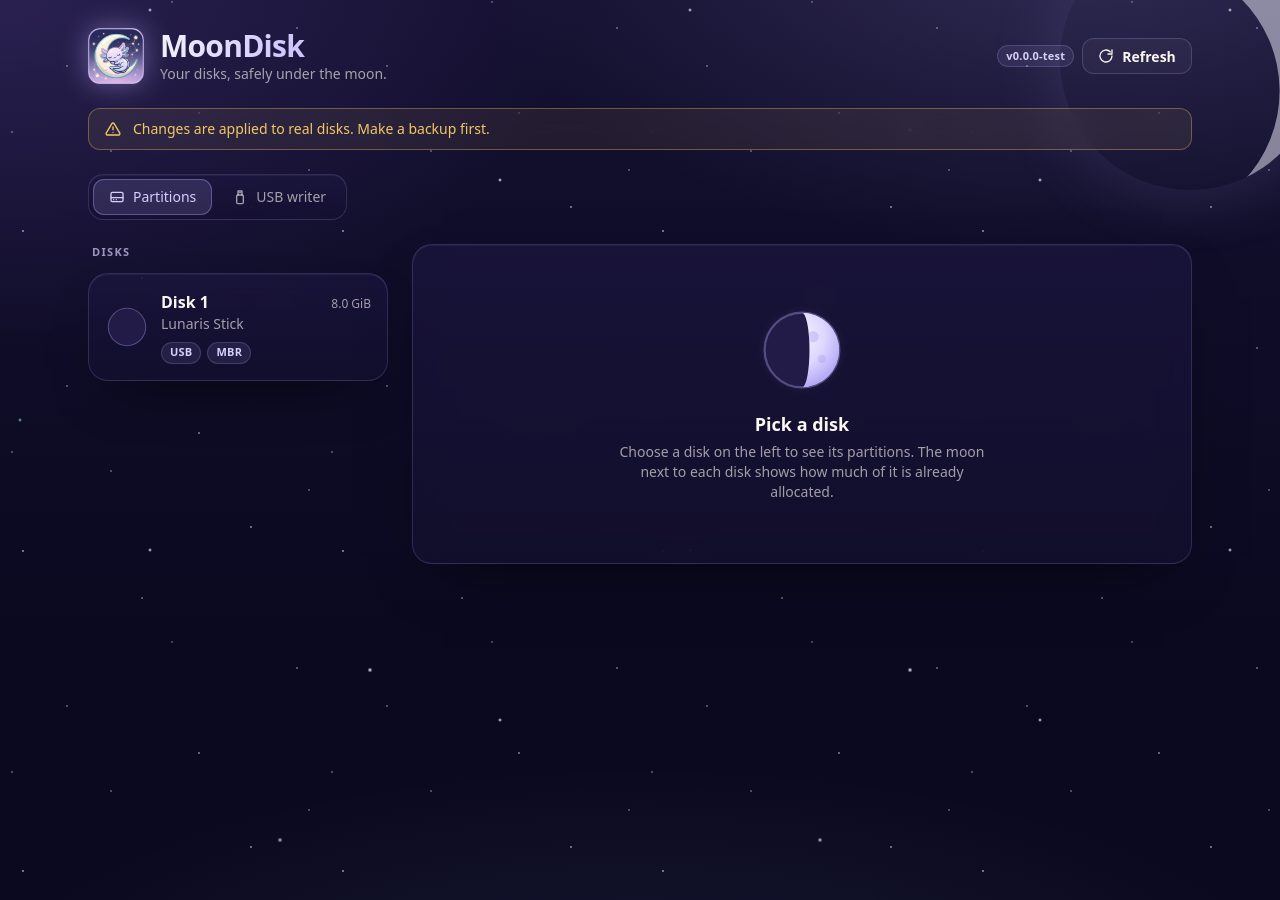
Test case: App › writes an image to the chosen drive after confirmation
This screenshot has width=1280, height=900.
Check: the text "Changes are applied to real disks. Make a backup first." is shown, box [133,119,490,138]
Click the tab "USB writer": (279, 197) [216,179,342,215]
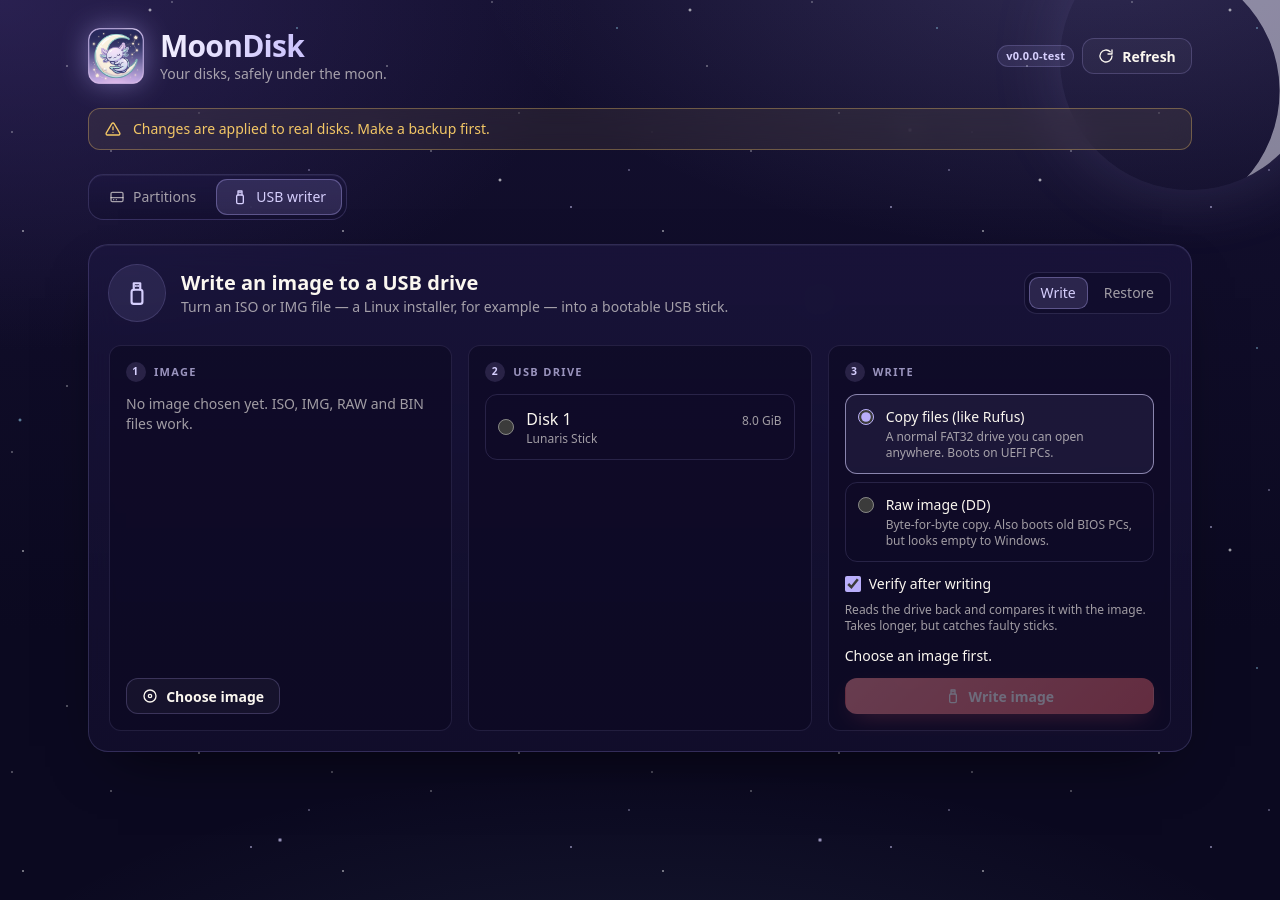
Click the button "Choose image": (203, 696) [126,678,280,714]
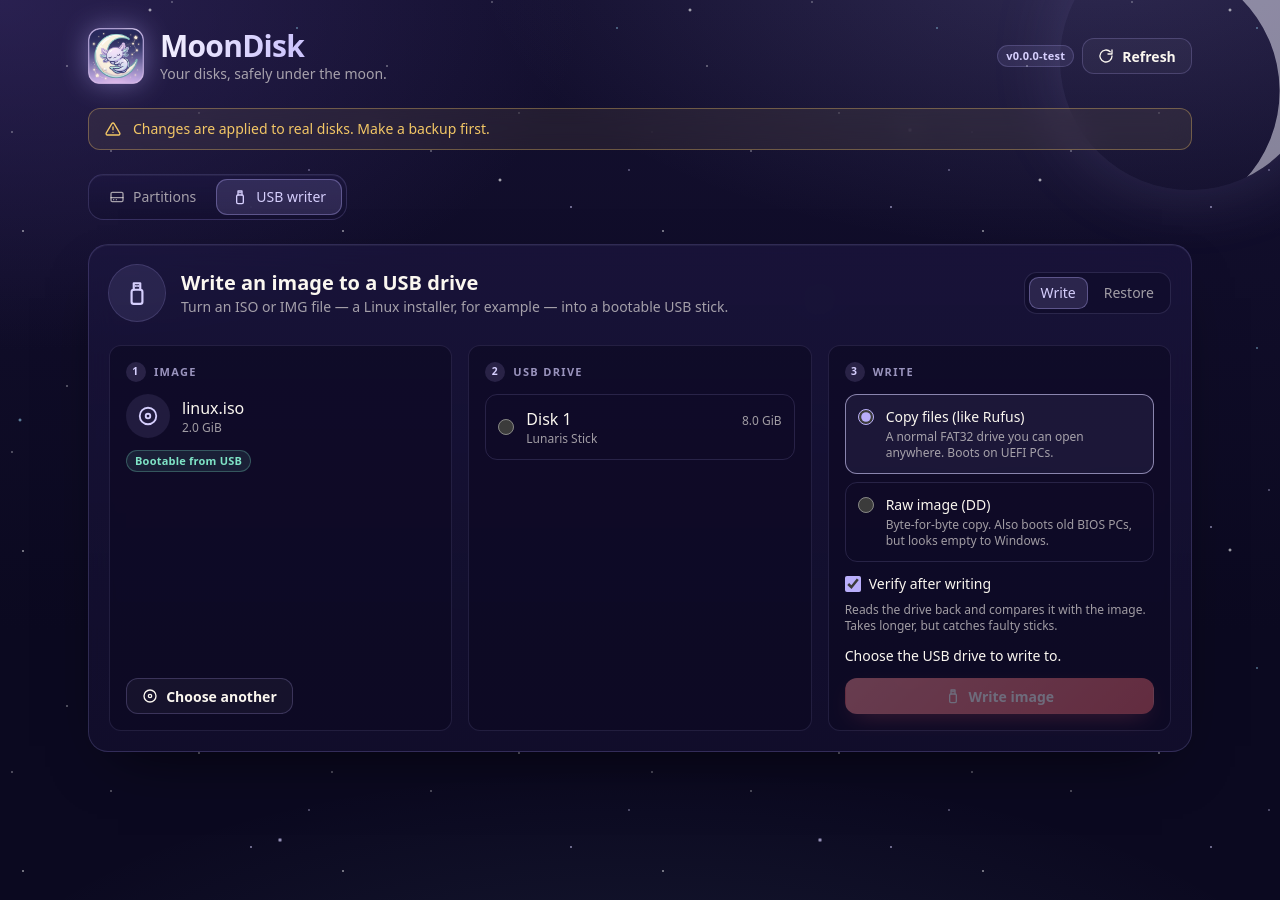
Click the radio button labelled "Disk 1 8.0 GiB Lunaris Stick": (506, 427) [498,419,514,435]
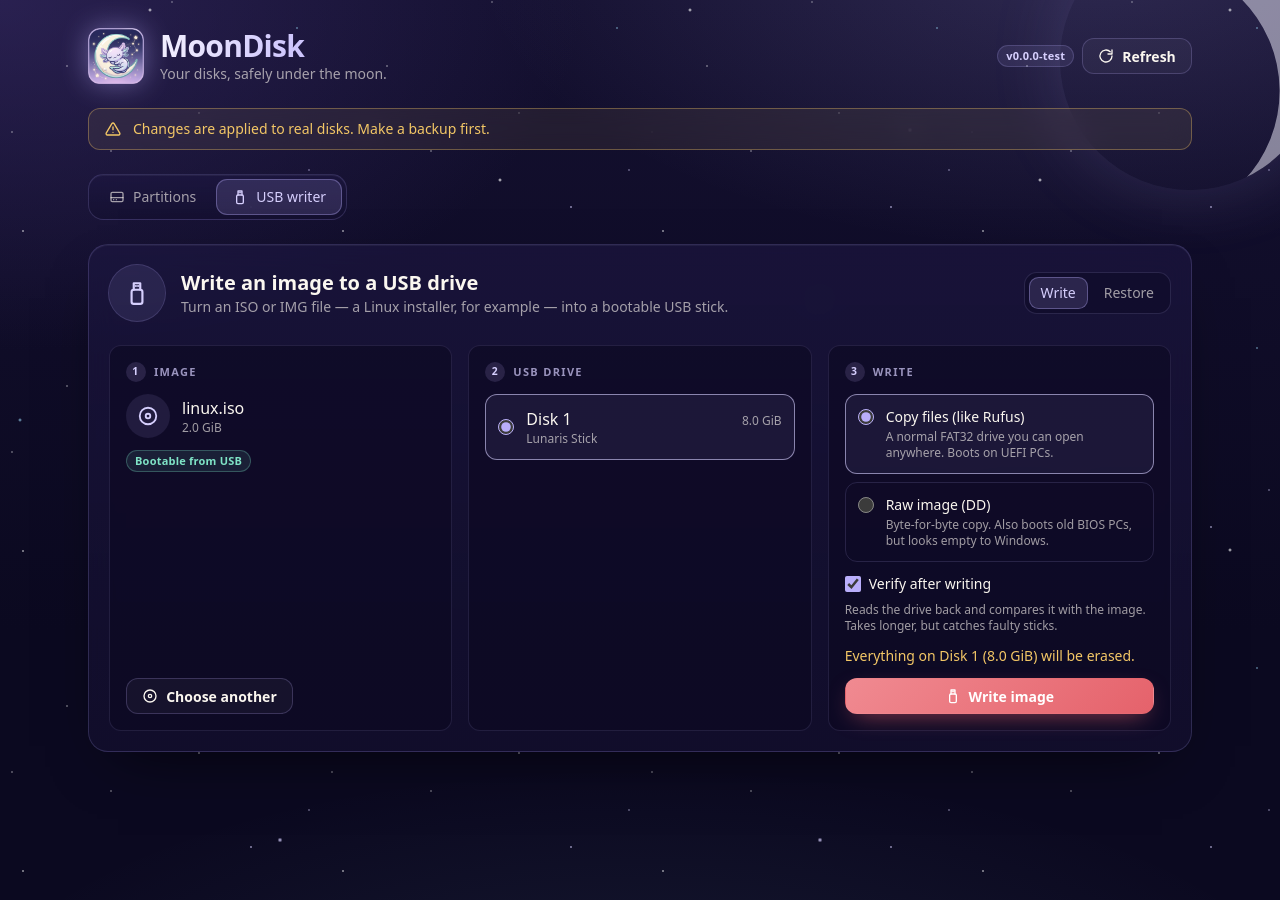
Click the button "Write image": (999, 696) [845,678,1154,714]
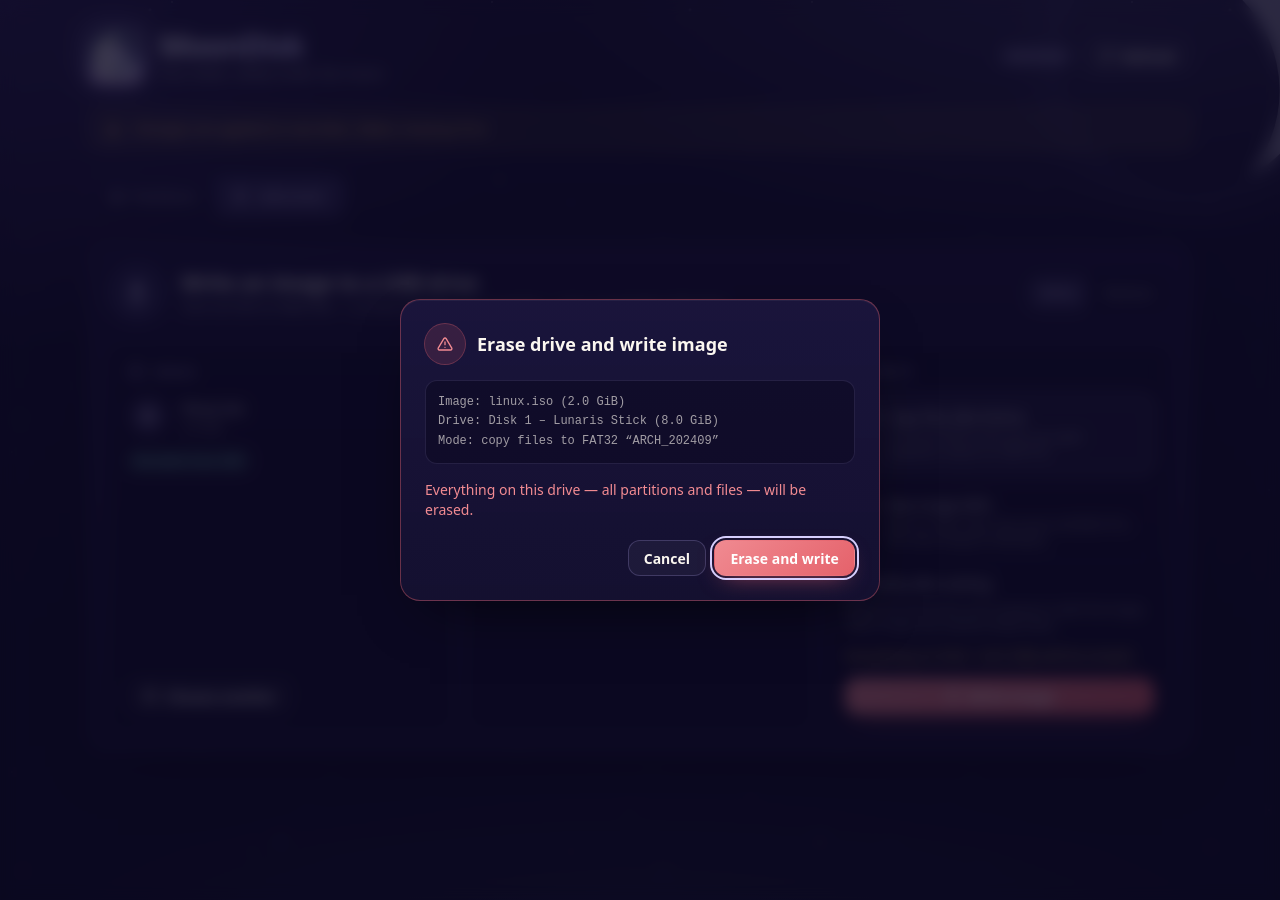
Click the button "Erase and write": (785, 558) [714,540,855,576]
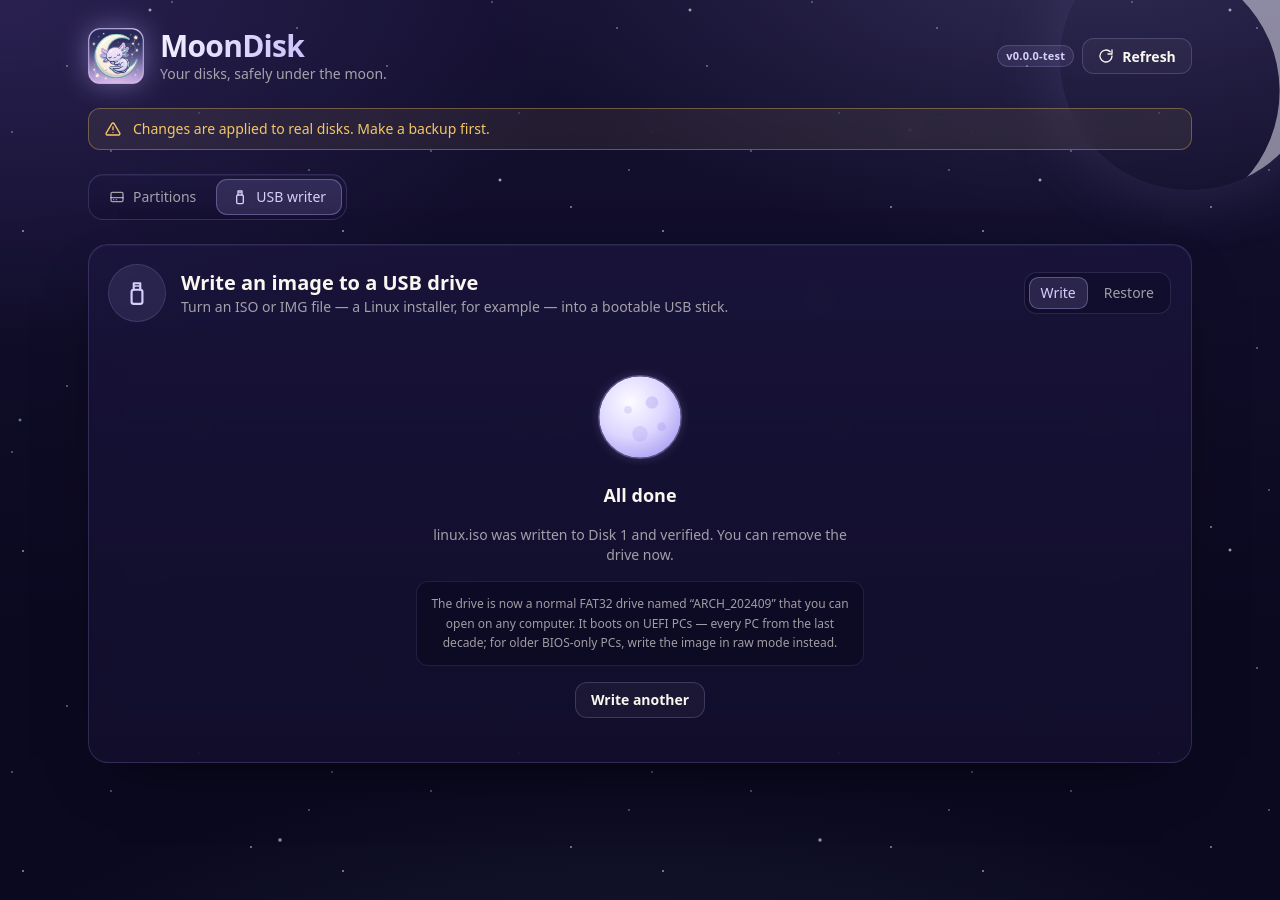
Check: the heading "All done" is shown, box [604,481,677,509]
